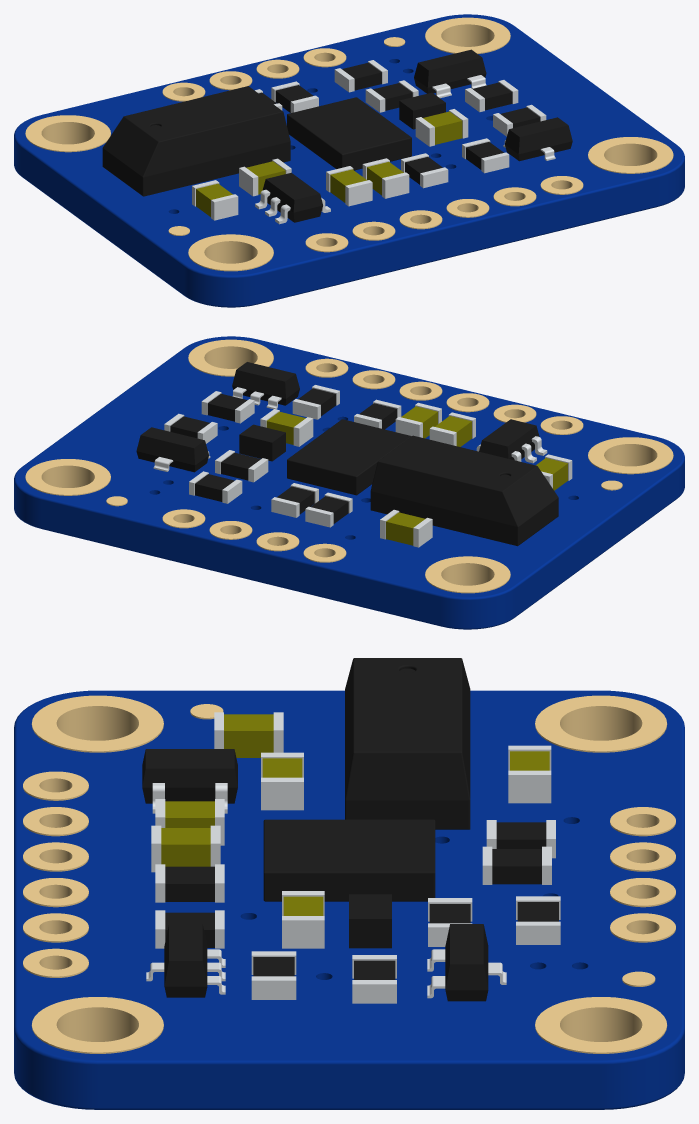
The model's file is gyroscope.glb.
3 renders of one model, top to bottom at view 1: azimuth 30°, elevation 25°; view 2: azimuth 150°, elevation 25°; view 3: azimuth 270°, elevation 25°, orthographic. The views are drawn at different scales.
Visible parts, largest first — view 1: Adafruit_BNO055_AP214; view 2: Adafruit_BNO055_AP214; view 3: Adafruit_BNO055_AP214.
Part boxes in pixels (box(x1,y1,x2,y2)): Adafruit_BNO055_AP214: box(14, 14, 684, 307); Adafruit_BNO055_AP214: box(14, 336, 684, 629); Adafruit_BNO055_AP214: box(14, 658, 684, 1109).
Size of the model in its own units: 55 by 8.66 by 41.9.
